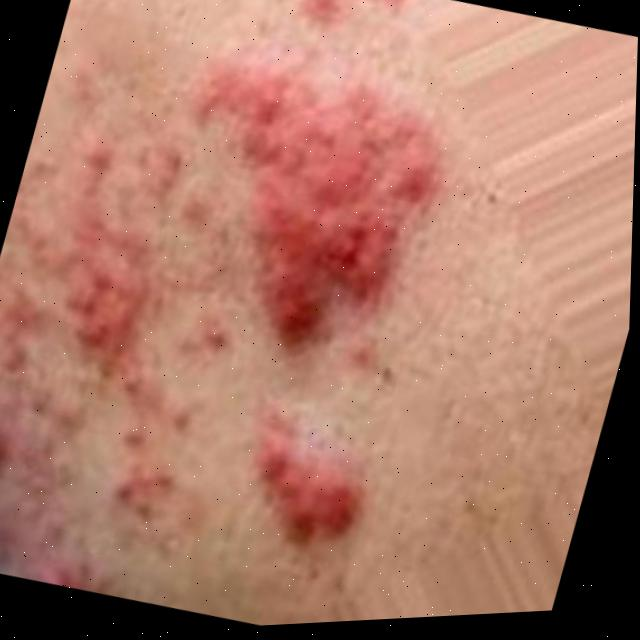Shingles: (0, 101, 292, 616), (127, 38, 468, 398), (220, 387, 388, 560)
